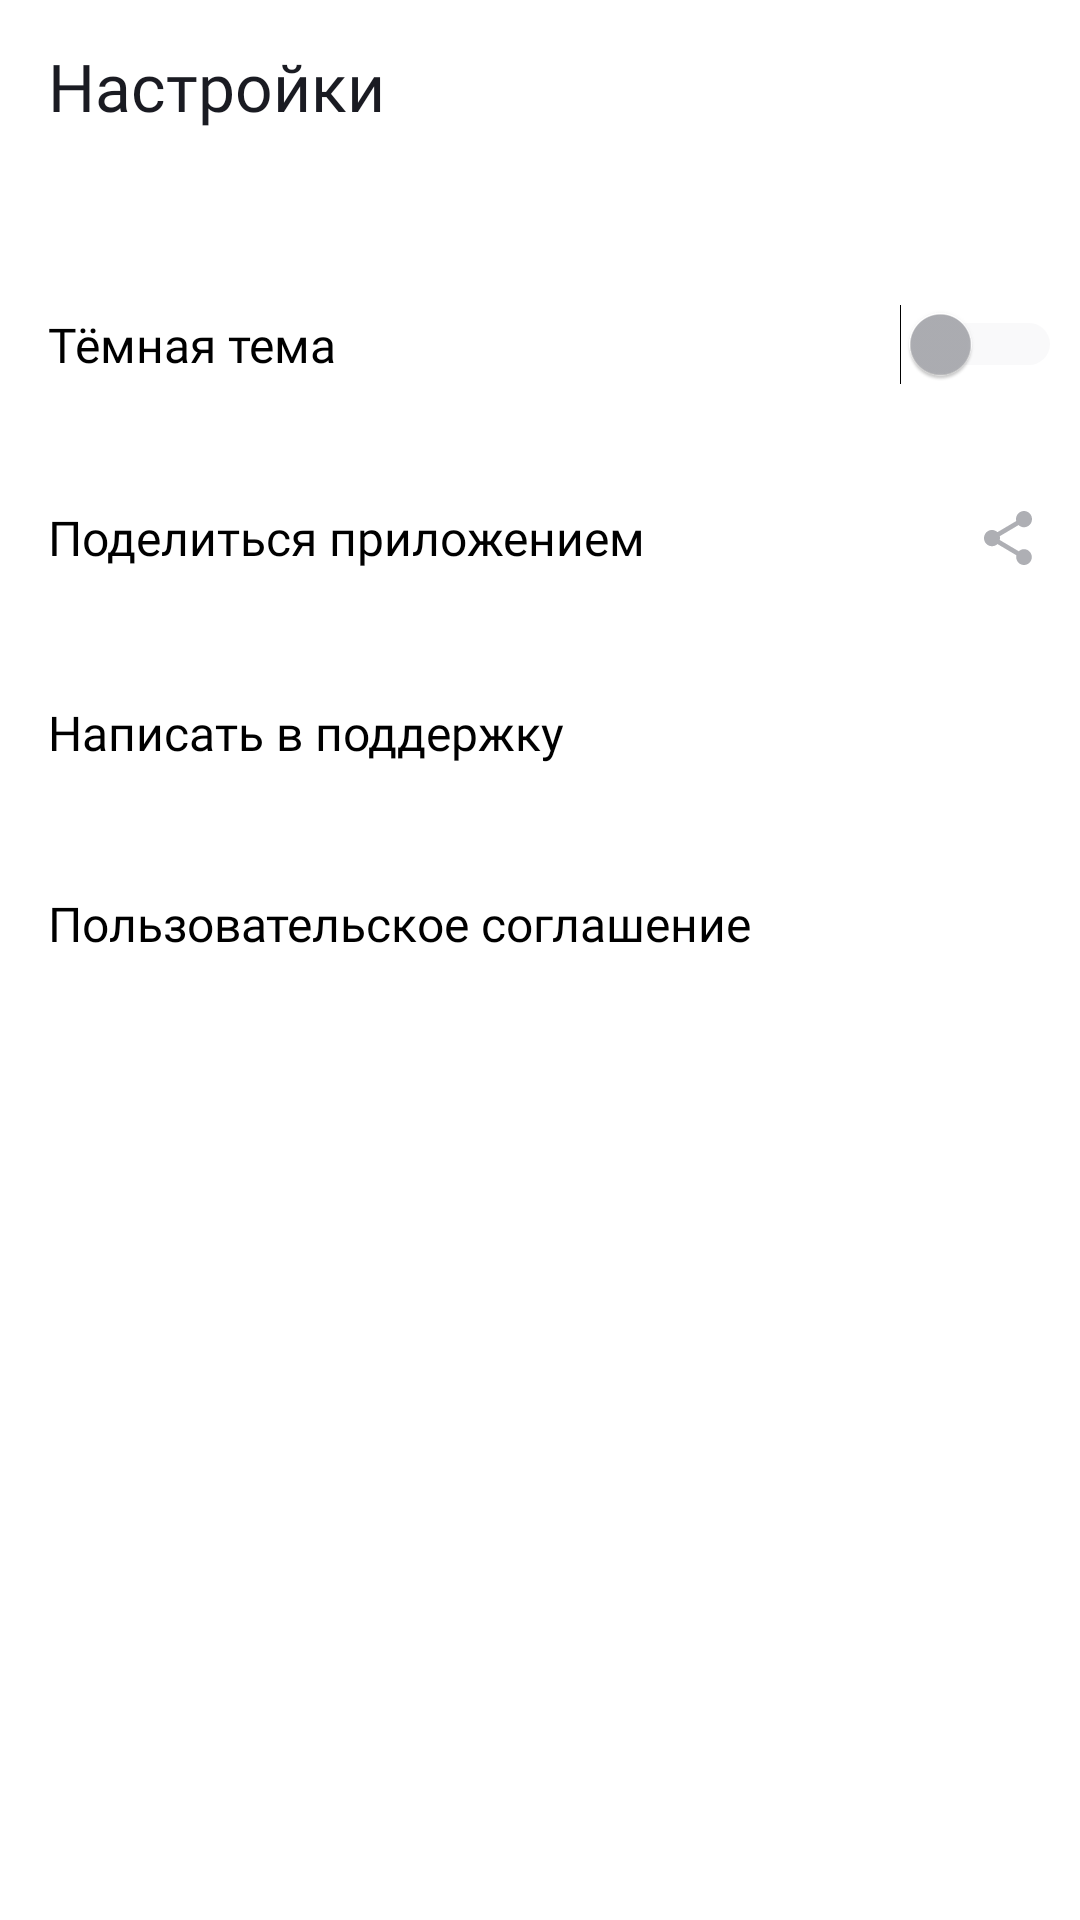

Screen size 1080px x 1920px. Icon name, then its center in pixels as (x=x, y=y):
share: (x=1008, y=538)
